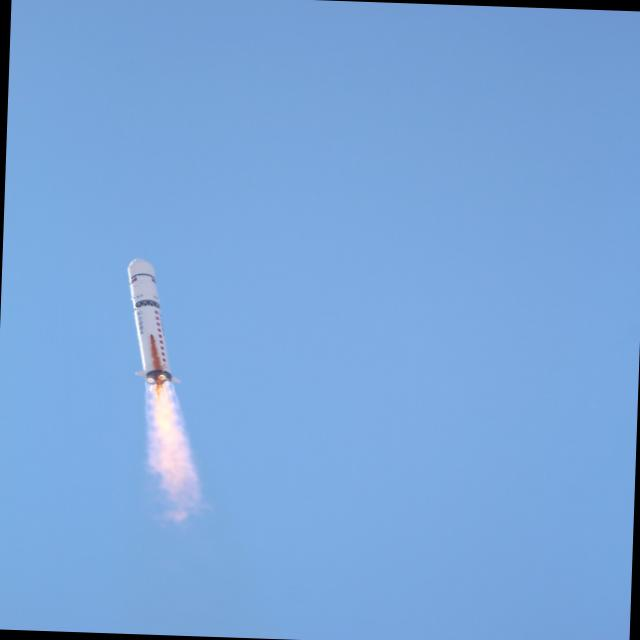rocket: (114, 249, 204, 512)
